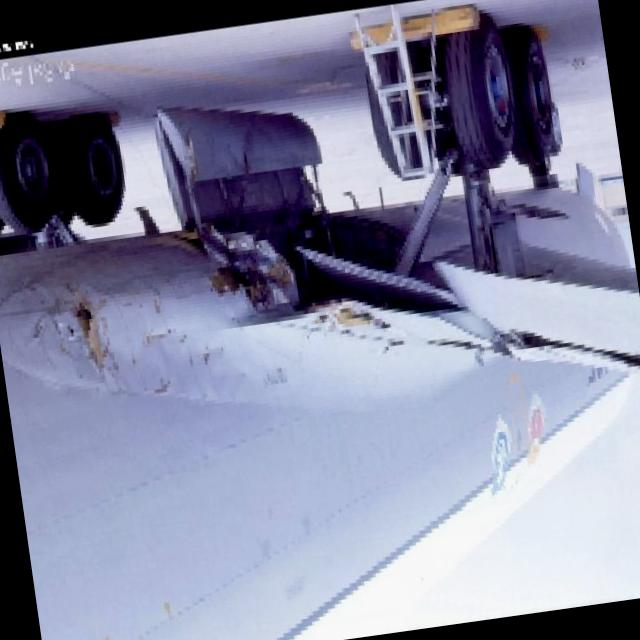crack: (67, 287, 106, 371)
dent: (105, 300, 248, 409)
